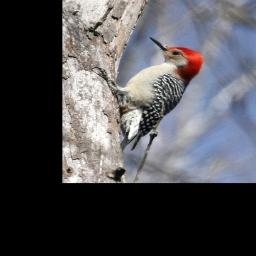Woodpecker: (86, 34, 209, 156)
